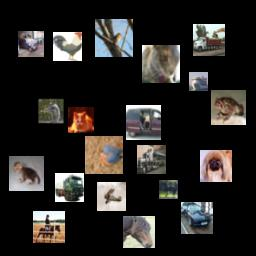airplane: (97, 182, 126, 211)
automobile: (126, 105, 161, 140), (181, 202, 213, 234), (18, 31, 44, 57)
bird: (85, 136, 123, 174), (95, 19, 133, 57), (53, 32, 82, 61), (38, 98, 64, 124)
cat: (142, 45, 180, 83), (9, 156, 44, 191), (68, 107, 94, 133)
dog: (200, 150, 232, 182)
frog: (211, 90, 246, 125)
ship: (189, 72, 208, 91)
truck: (193, 24, 225, 56), (55, 173, 84, 202), (137, 145, 166, 174)
